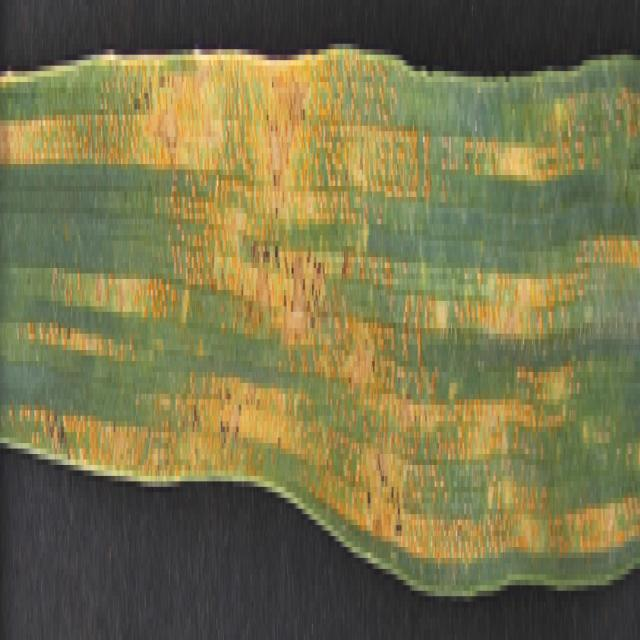leaf rust: (0, 6, 638, 586)
